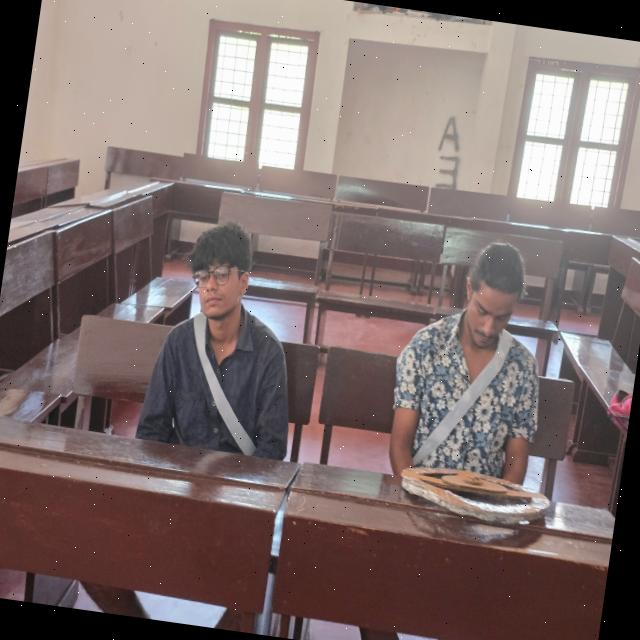seatbelt: (400, 318, 516, 484), (170, 308, 280, 466)
